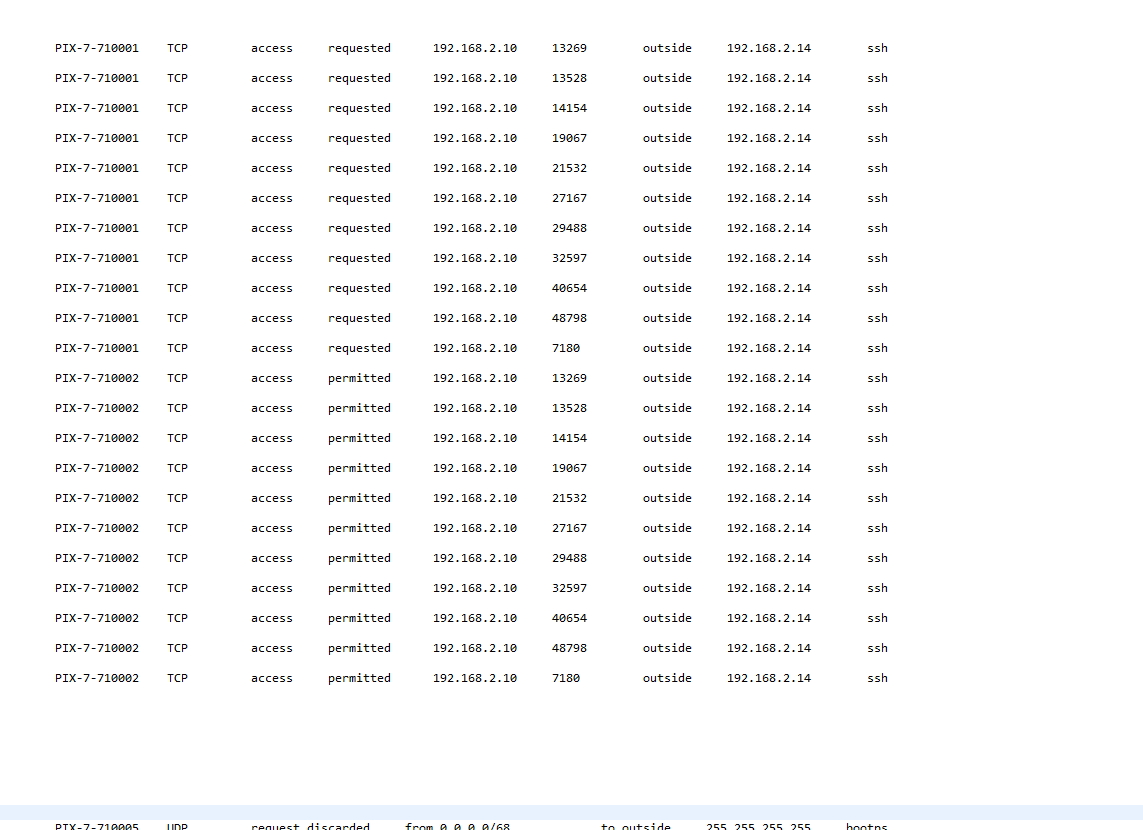table: (49, 38, 903, 695)
